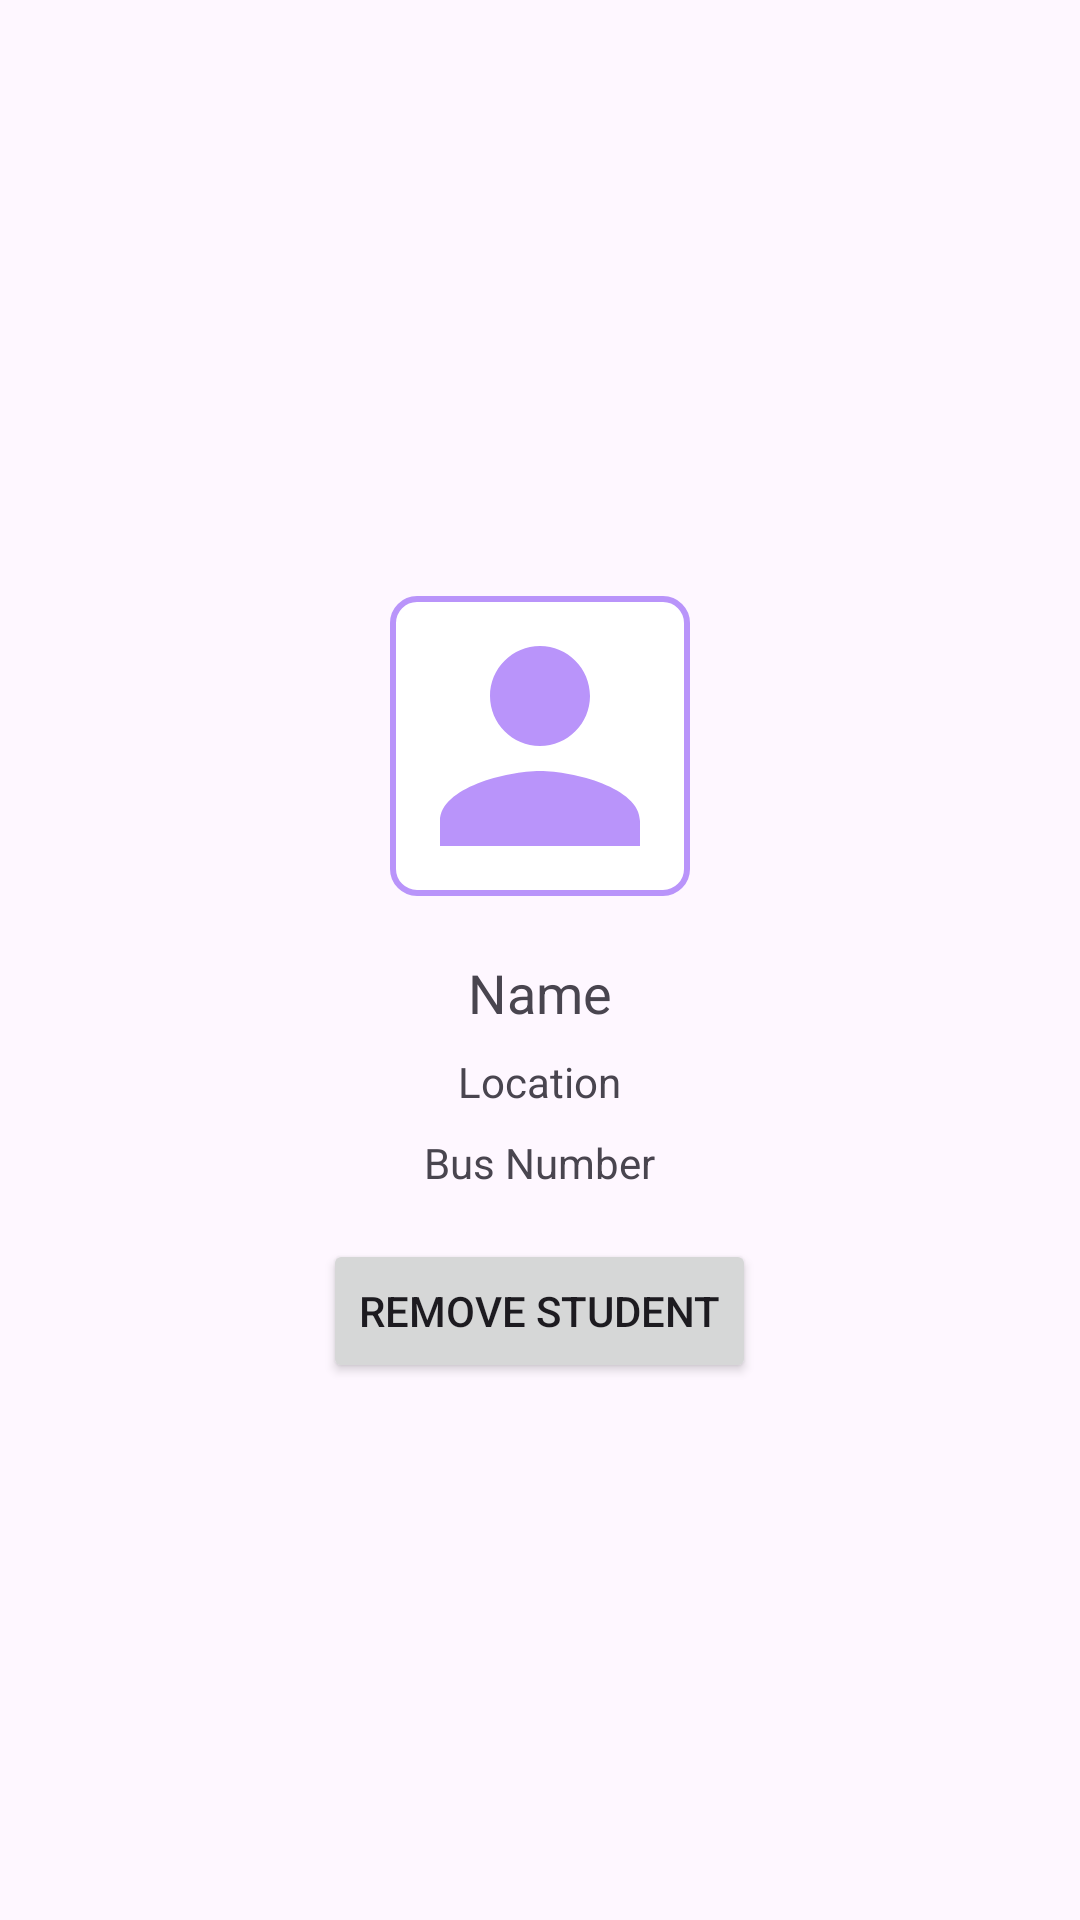

Locate icon controls on the screen. Image size 1080px x 1920px, boxes as bbox=[x1, y1, x2, y2].
person: bbox=[390, 596, 690, 896]
